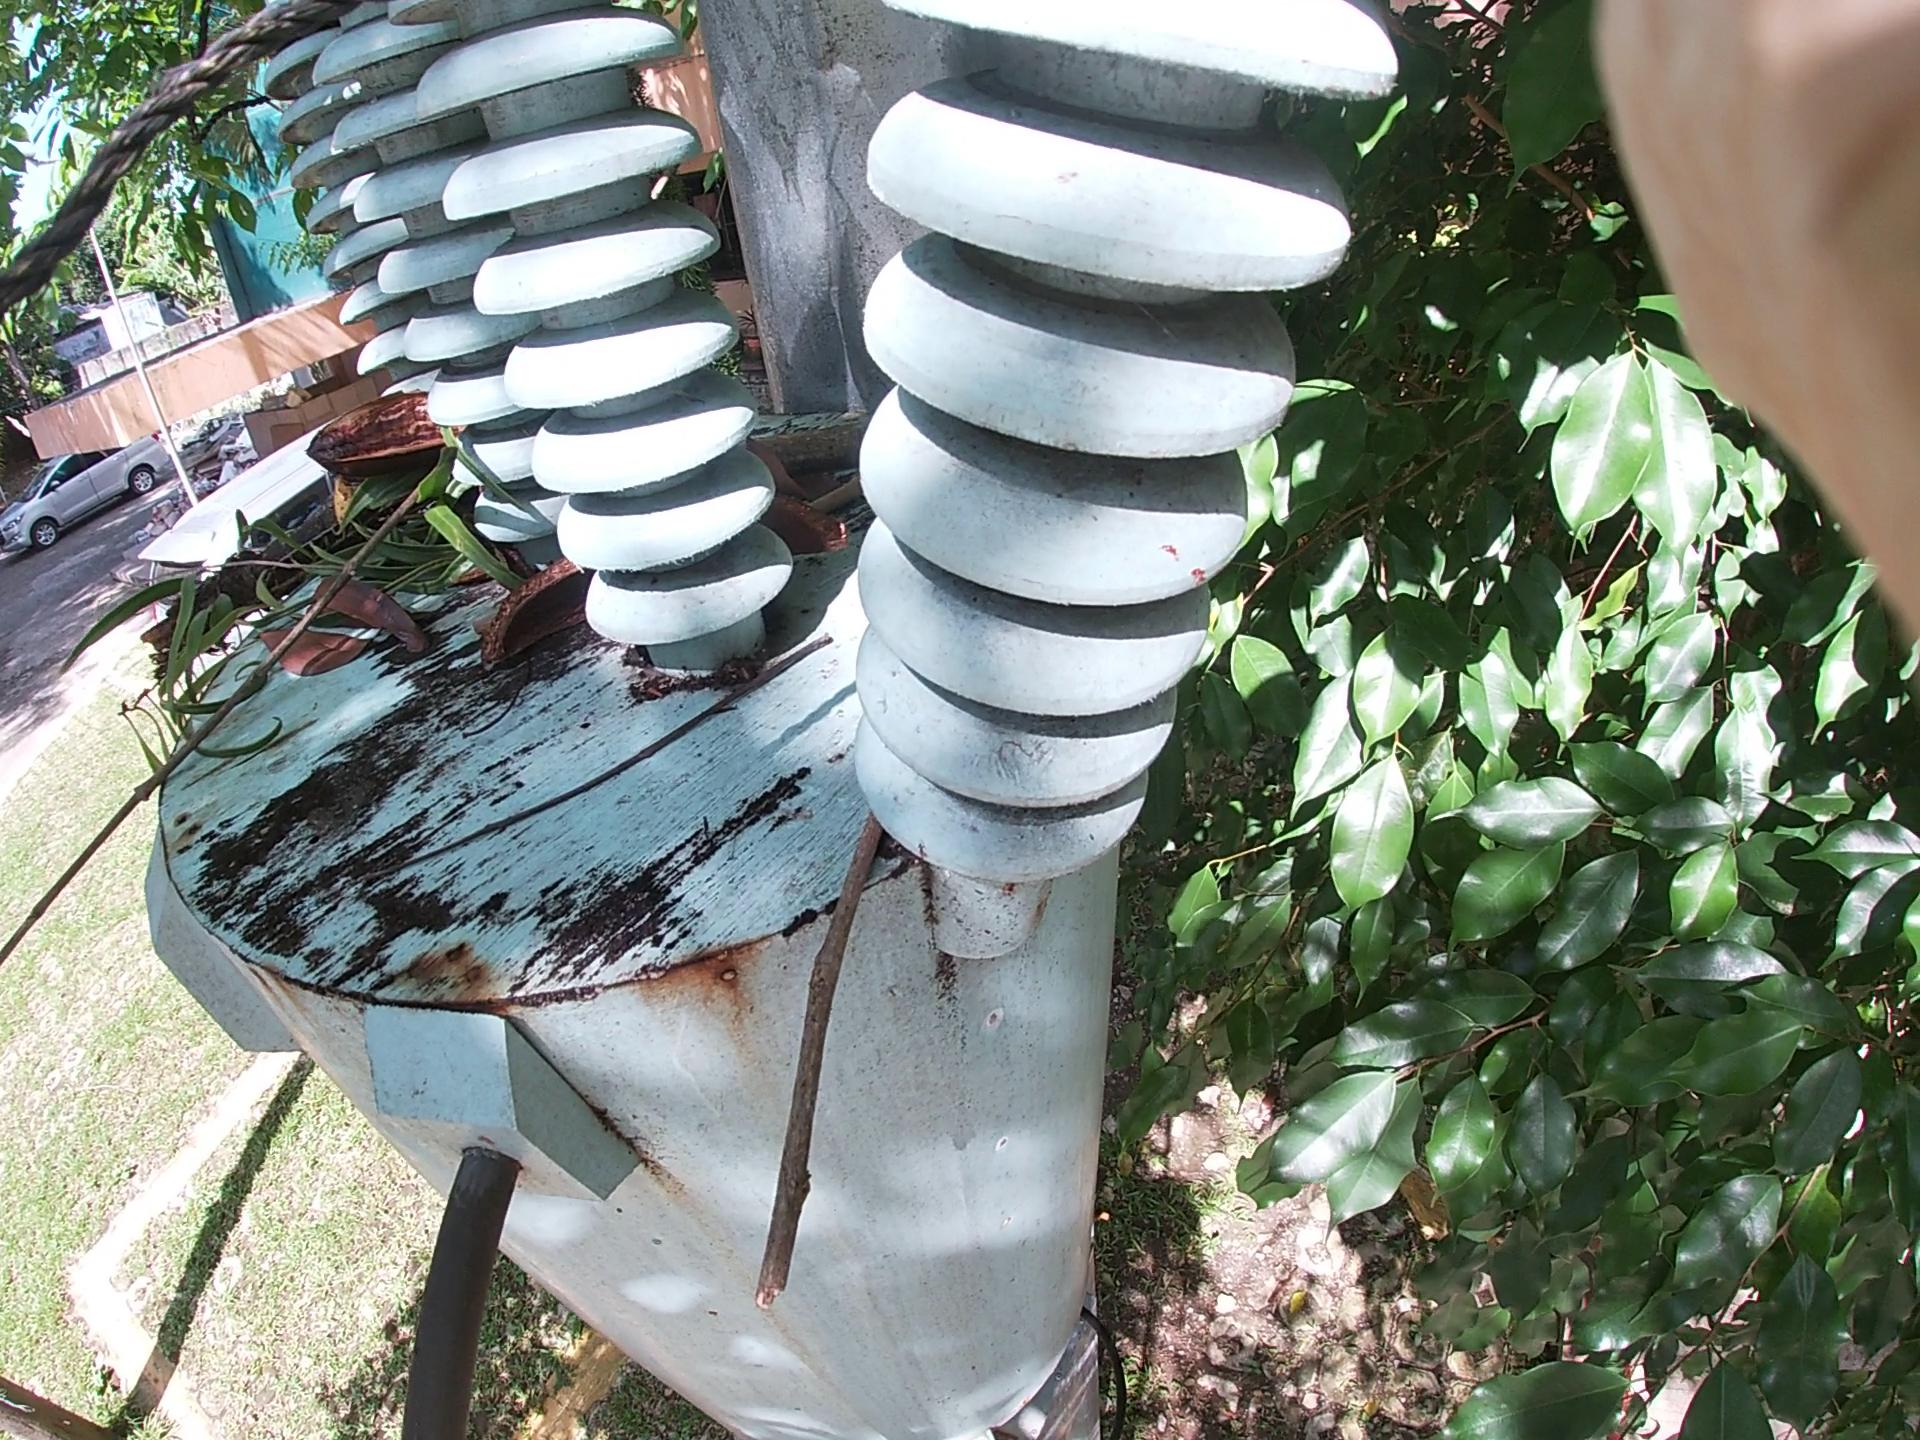branch with leaves: (132, 430, 429, 712)
leaf: (302, 537, 399, 694)
mahogany fruit: (283, 349, 528, 514), (472, 557, 723, 684)
tree branch: (38, 484, 437, 906), (398, 635, 819, 871), (730, 773, 909, 1308), (703, 296, 907, 591)
